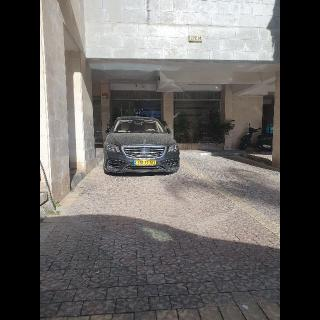LicensePlate: (136, 161, 156, 165)
